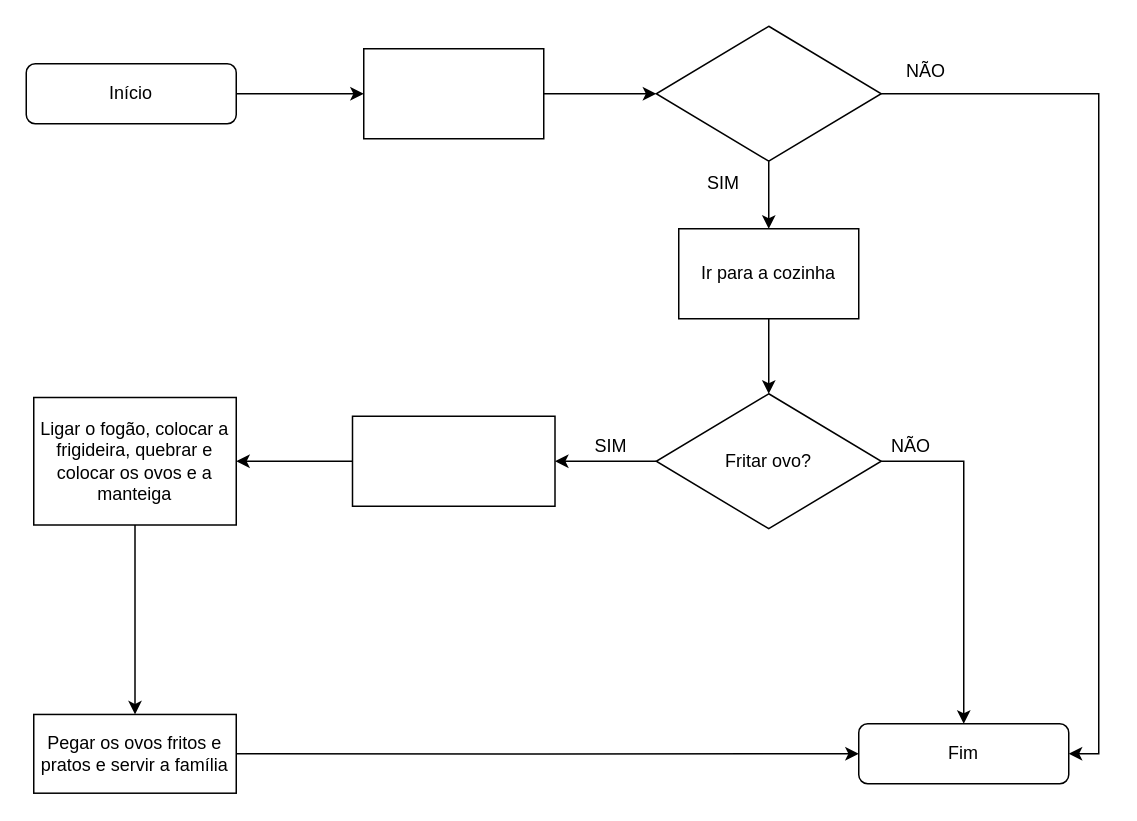
Some shapes in this 1137 by 821 pixel diagram are drawn without their labels. The centre of each missing label's shape, as x and y in pixels:
"Chegar em casa" belongs at [453,93].
"Família está com fome?" belongs at [768,93].
"Pegar frigideira, espátula, ovos e manteiga" belongs at [453,460].
